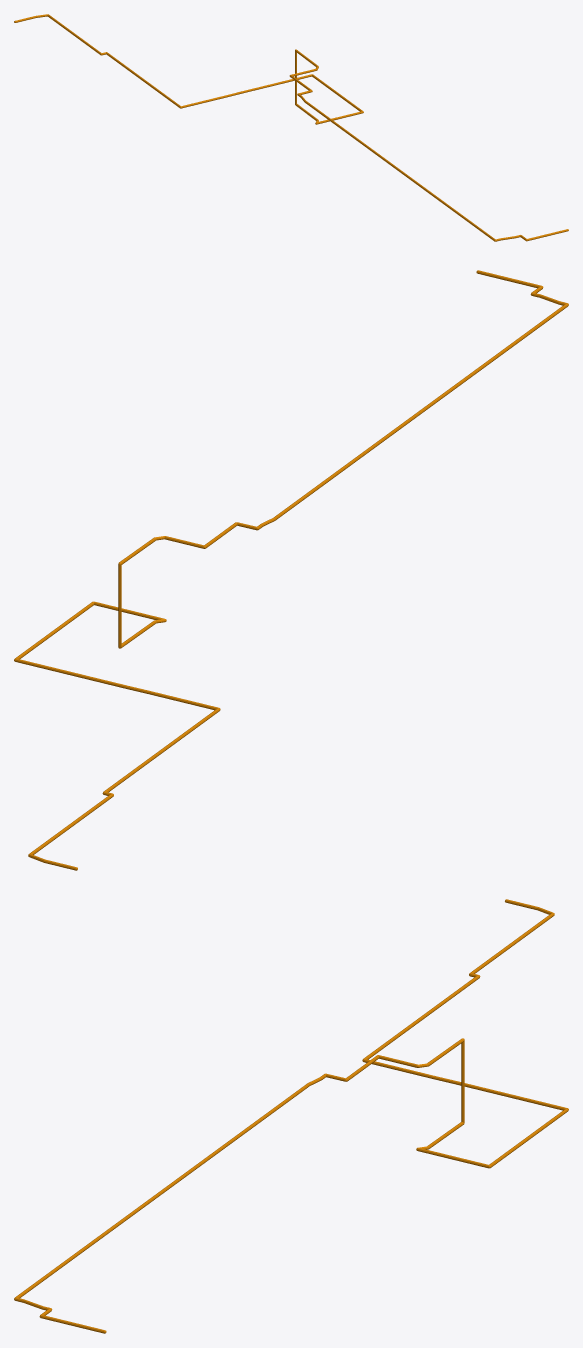
3 views of the same model, one above another, from view 1: azimuth 30°, elevation 25°; view 2: azimuth 150°, elevation 25°; view 3: azimuth 330°, elevation 25° (orthographic). The views are drawn at different scales.
Bounding box in the file's own units: 1656 × 520 × 6868.
